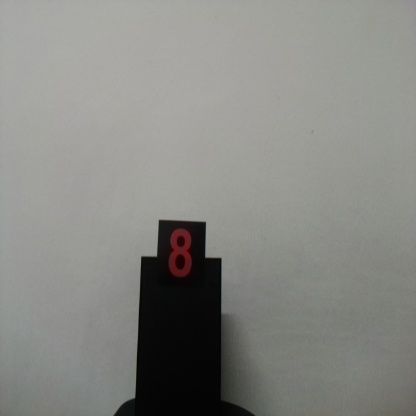id_8: (160, 220, 206, 301)
